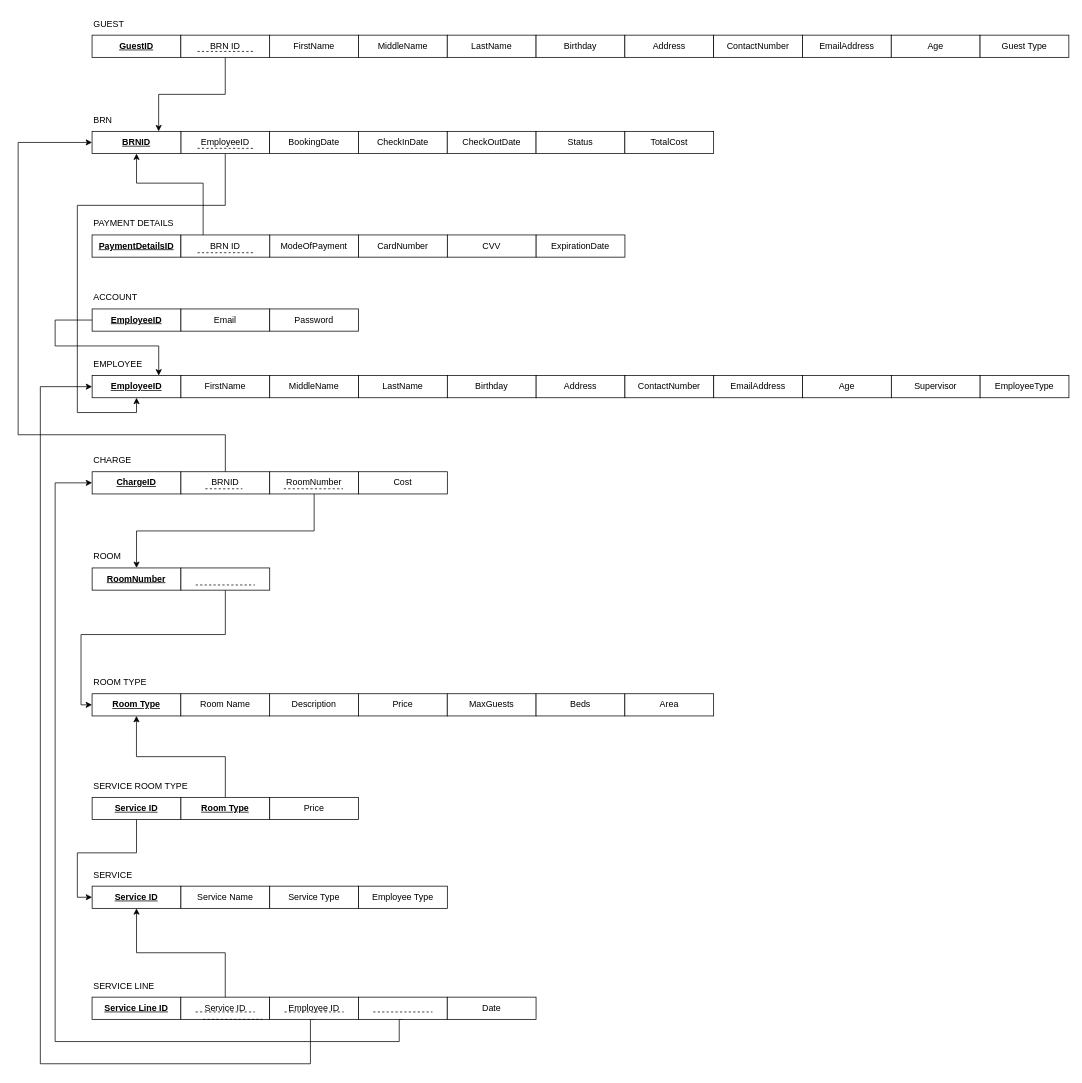
Image size: 1082x1083. Some labels were removed from this diagram. Here are the shapes that lost their labels. From the top down, the centre of each, then its label:
point 225,578: RoomType
point 402,1007: Charge ID
